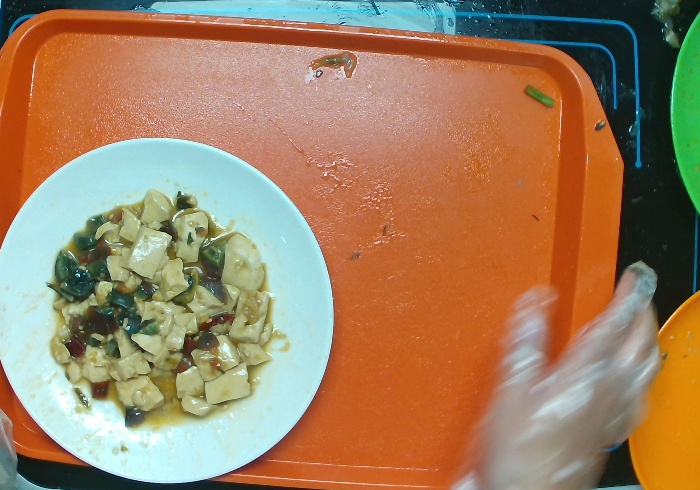HZYJPL-Bai_Se_Yuan_Pan: (1, 133, 338, 490)
